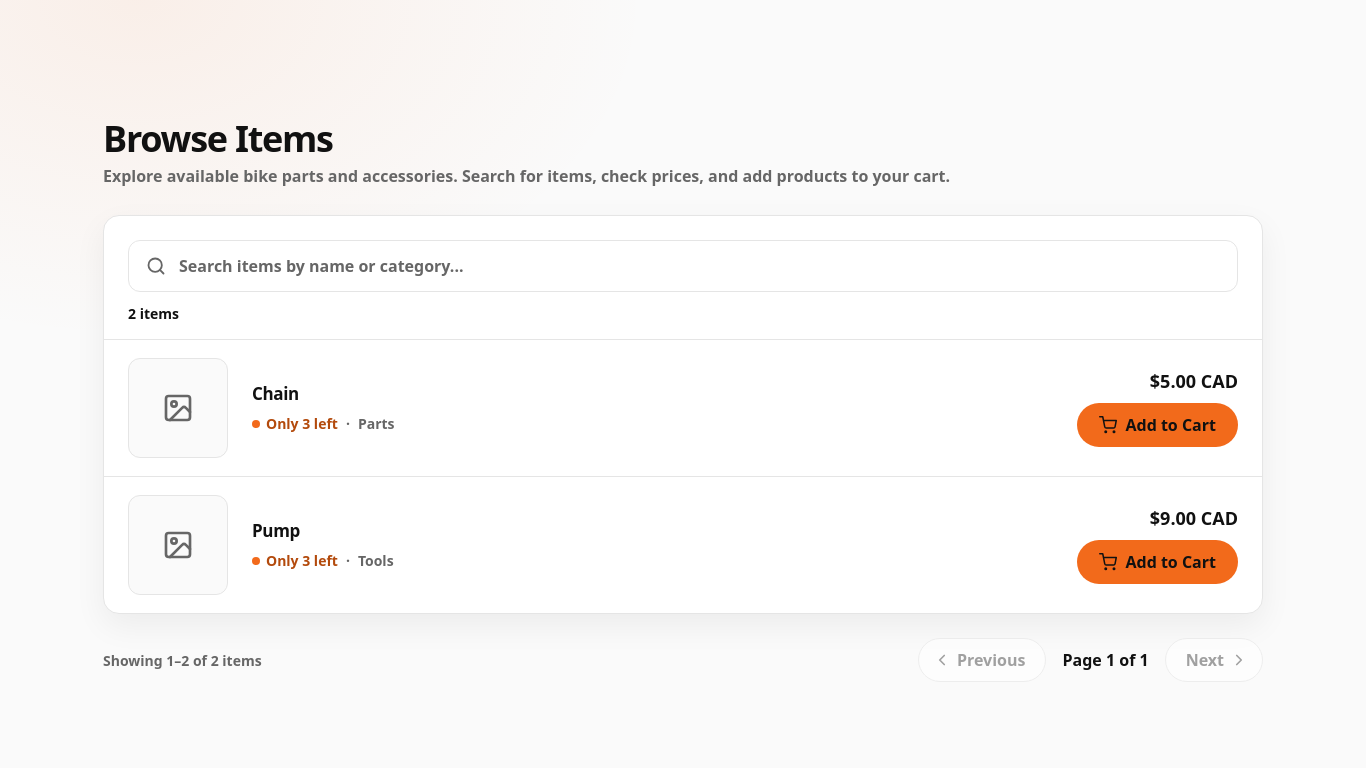
Scenario: customer pages › filters inventory by name and category
Check: the link "Chain" is shown, box [252, 382, 299, 405]
Type "tools" into the search field labelled "Search items by name or category" at x=683, y=266, box [128, 240, 1238, 292]
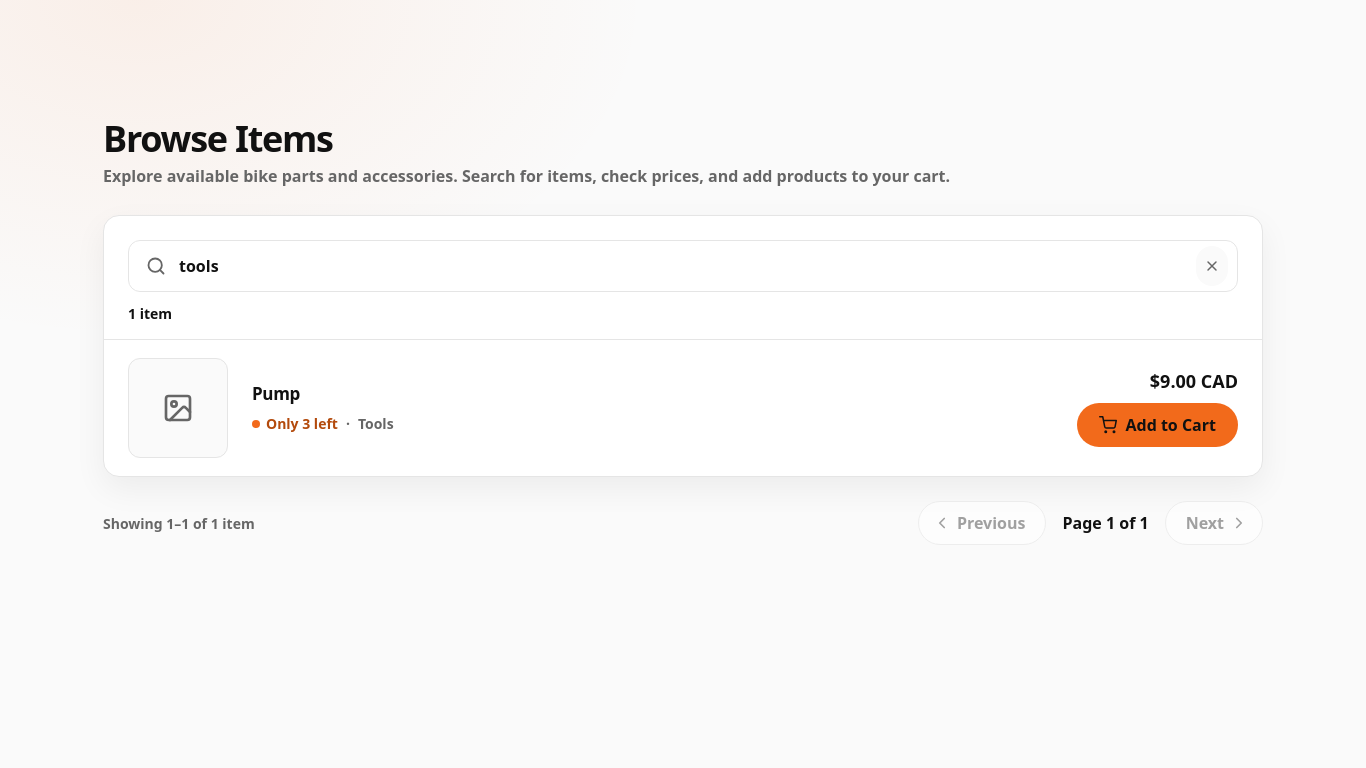
Check: the link "Chain" is gone
Replace the text in the search field named "Search items by name or category" with "acme" at x=683, y=266, box [128, 240, 1238, 292]
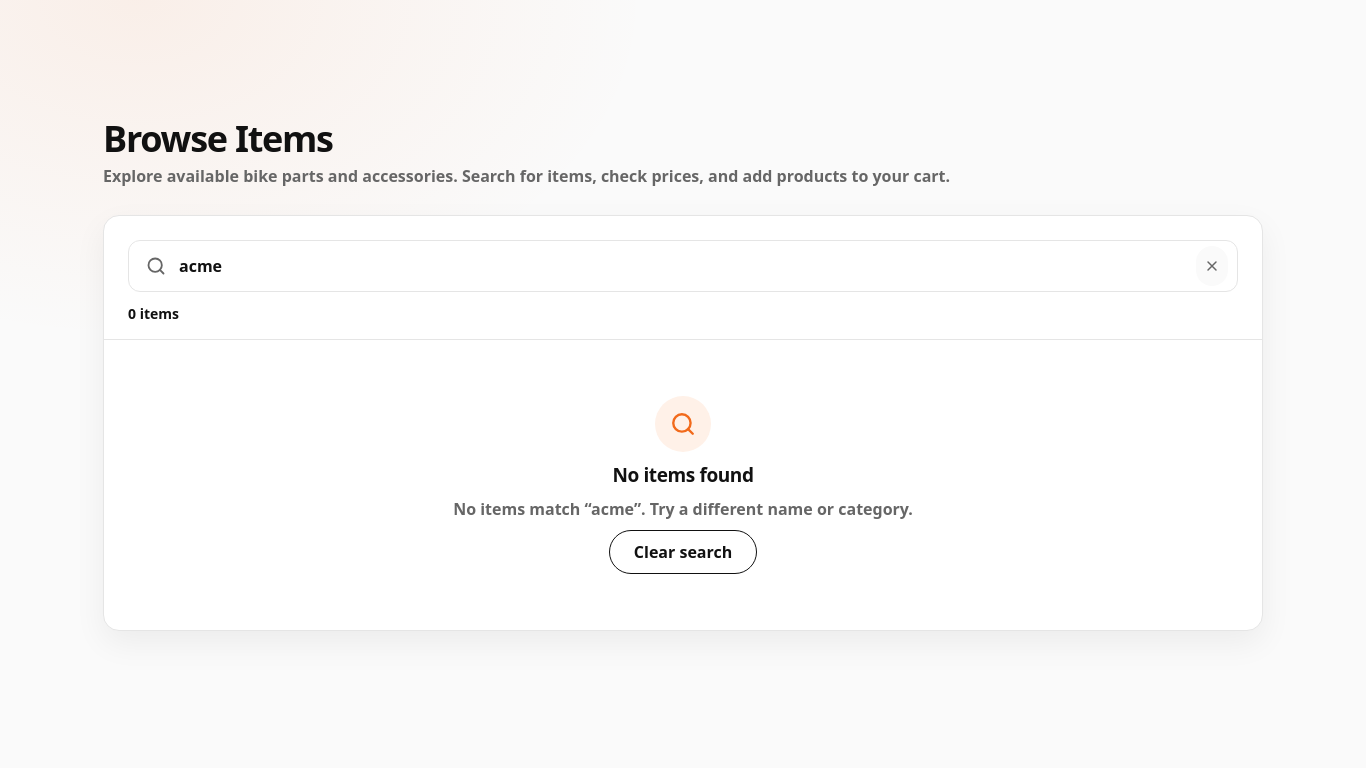
Check: the heading "No items found" is shown, box [612, 462, 754, 488]
